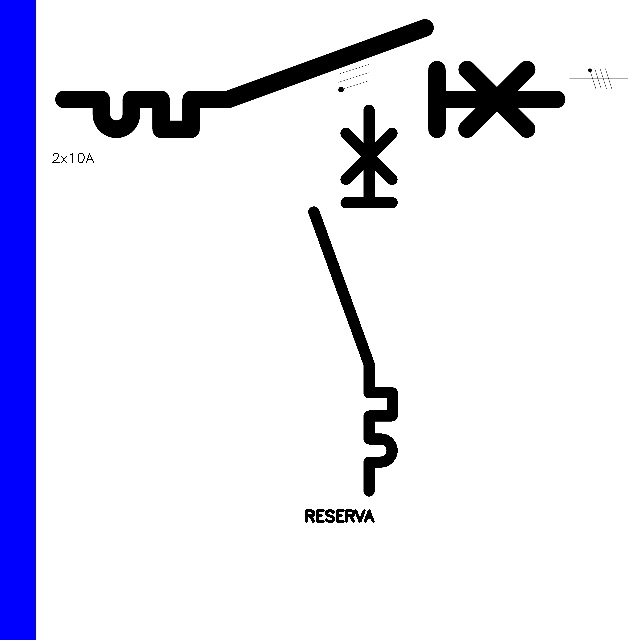interruptor_termomagnetico: (51, 15, 569, 142), (304, 100, 402, 501)
